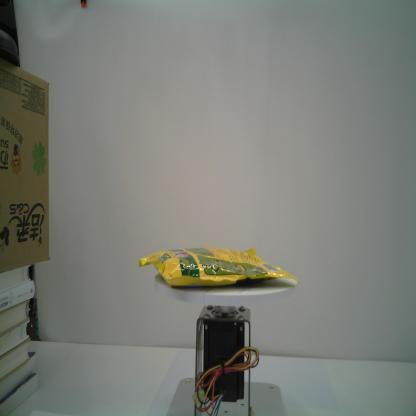Seasoner: (138, 245, 301, 289)
